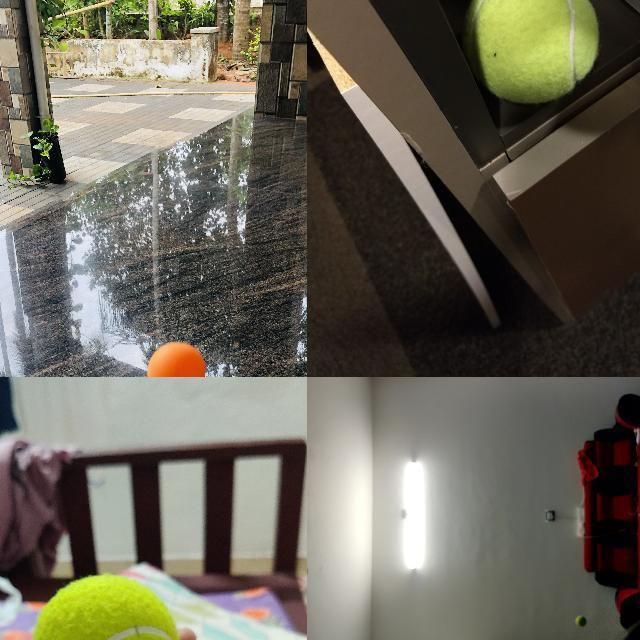tennis-ball: (461, 0, 599, 105), (31, 572, 182, 639), (574, 615, 586, 627)
